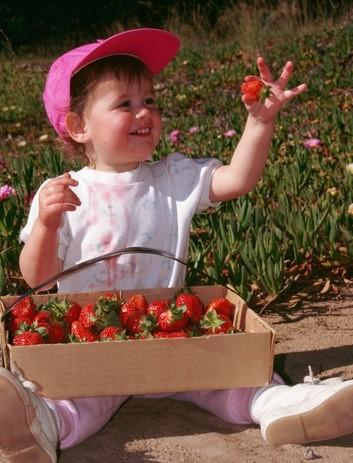Healthy: (58, 48, 192, 174)
